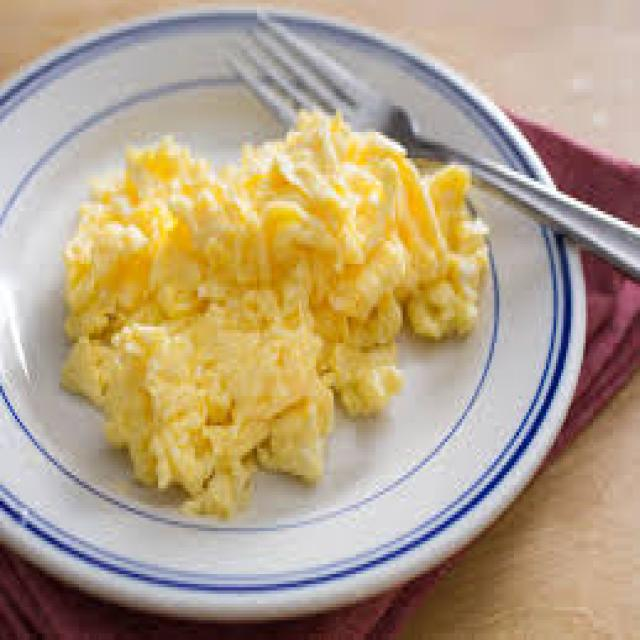eggs: (24, 109, 507, 498)
